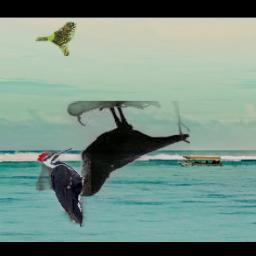Crow: (62, 102, 191, 197)
Sparrow: (36, 21, 77, 56)
Woodpecker: (37, 148, 92, 228)
